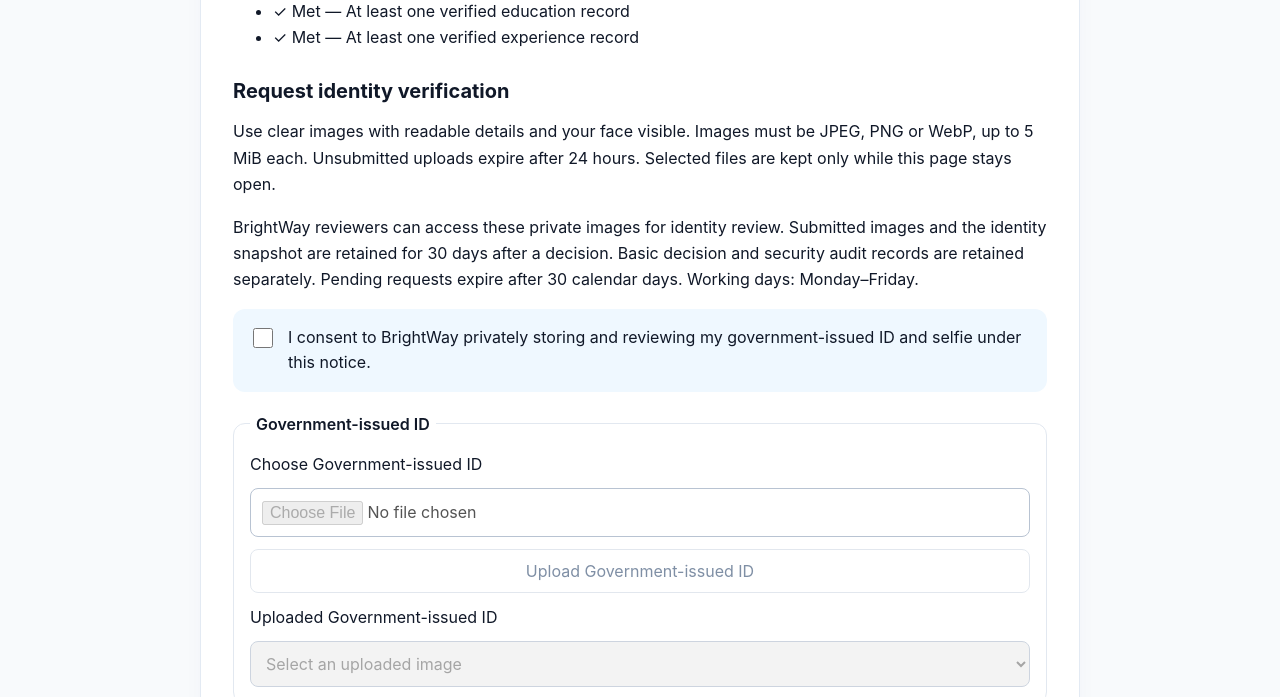
Test case: requires an explicit status reload after a stale submission instead of silently retrying
(page scrolled)
Click the checkbox at point(263, 338), box [253,328,273,348]
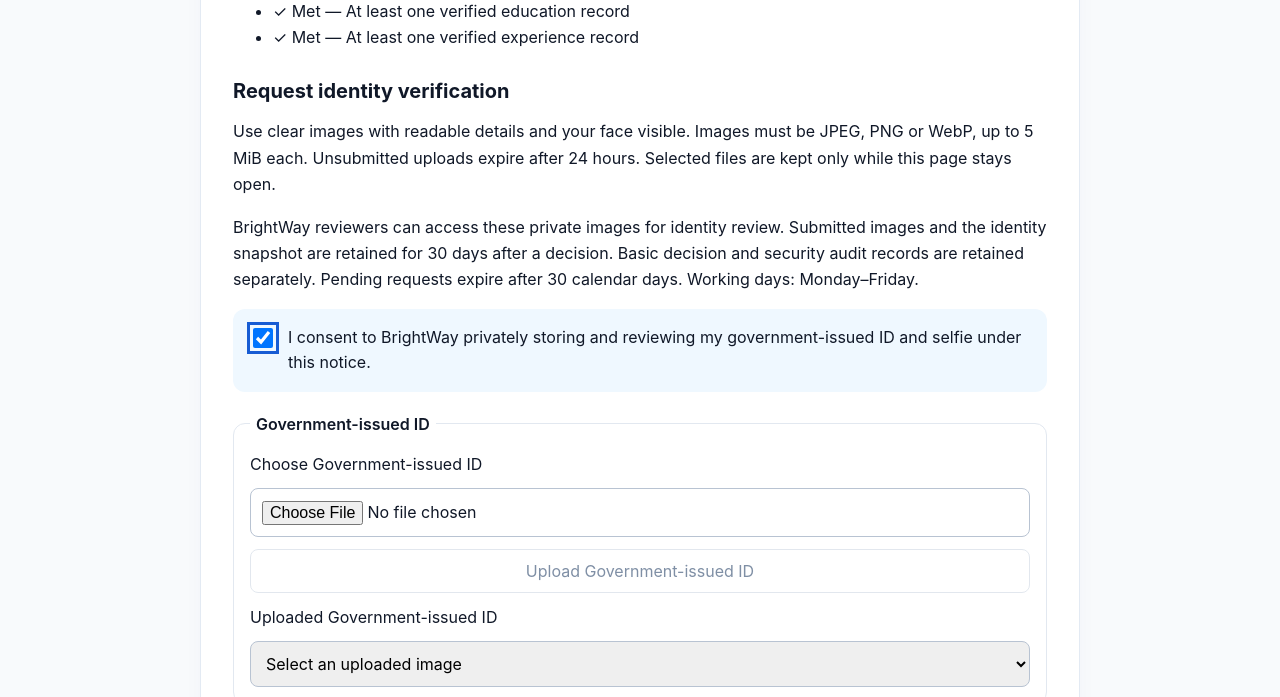
Select "Upload 1 · expires 27 Oct 2026, 00:00 UTC" in the dropdown labelled "Uploaded Government-issued ID" at point(640, 664), box [250,641,1030,687]
(page scrolled)
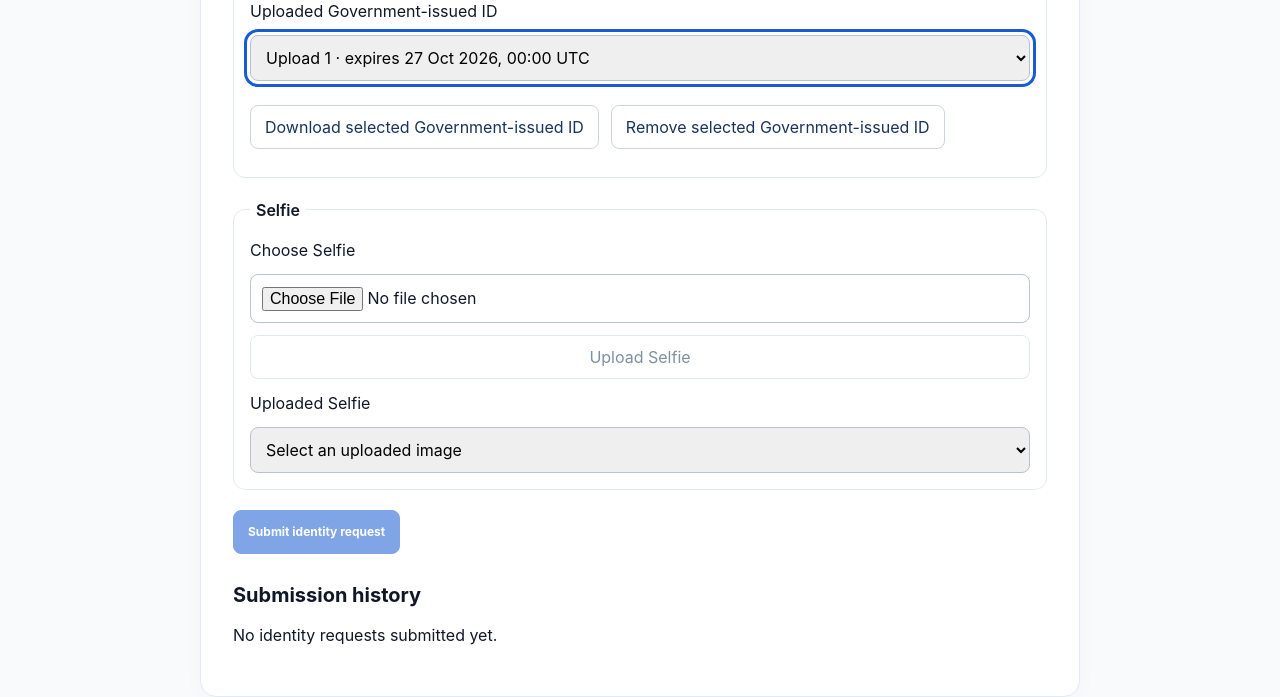
Select "Upload 1 · expires 27 Oct 2026, 00:00 UTC" in the dropdown labelled "Uploaded Selfie" at point(640, 450), box [250,427,1030,473]
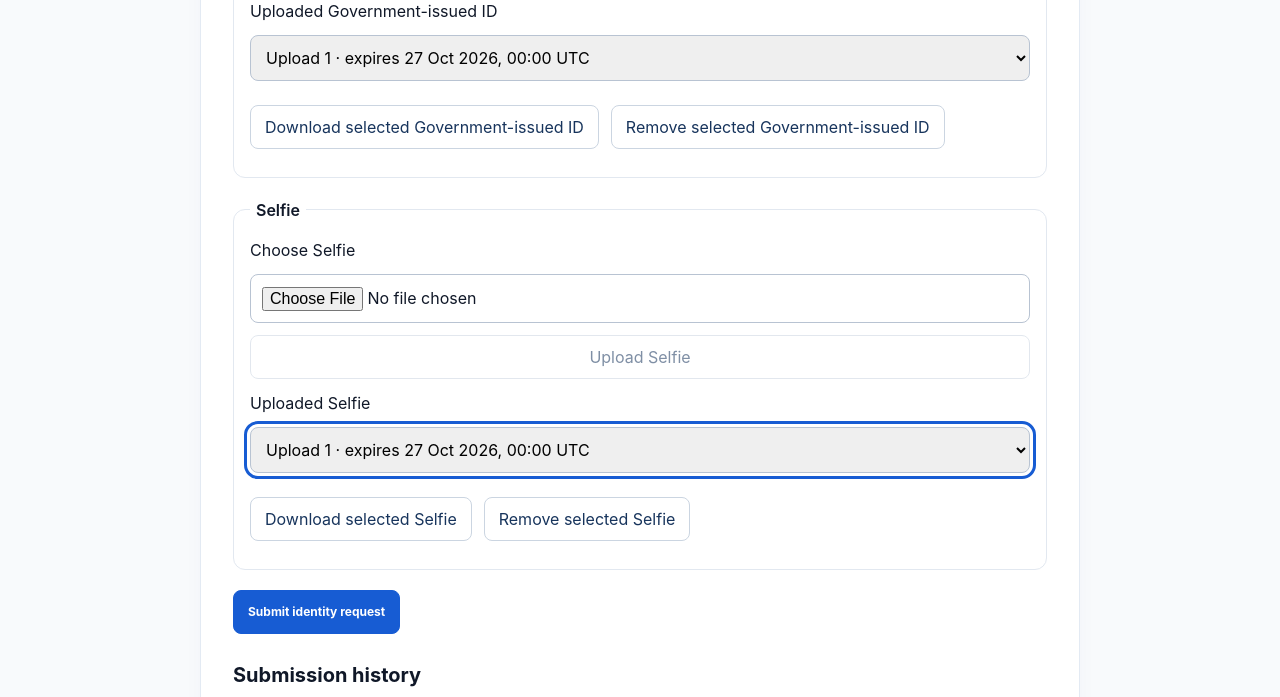
Click the button "Submit identity request" at point(317, 612), box [233,590,400,634]
(page scrolled)
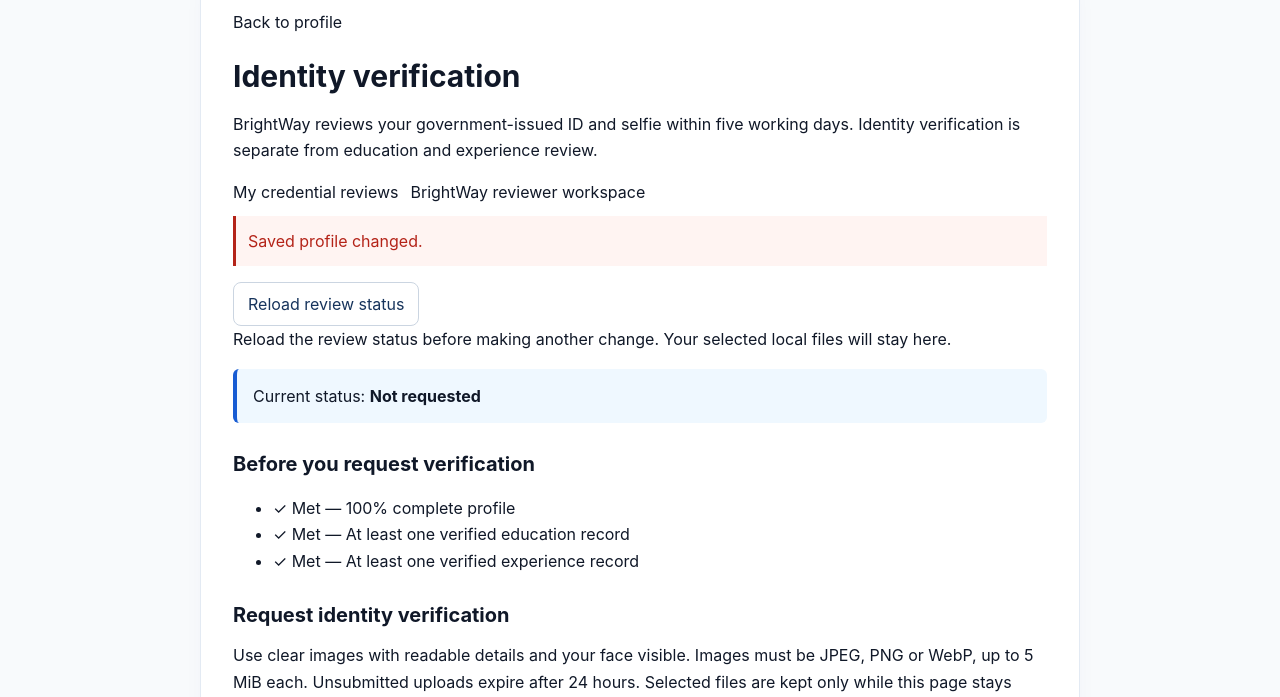
Now the message "Saved profile changed." is shown, box [233,216,1047,266]
Click the button "Reload review status" at point(326, 304), box [233,282,420,326]
(page scrolled)
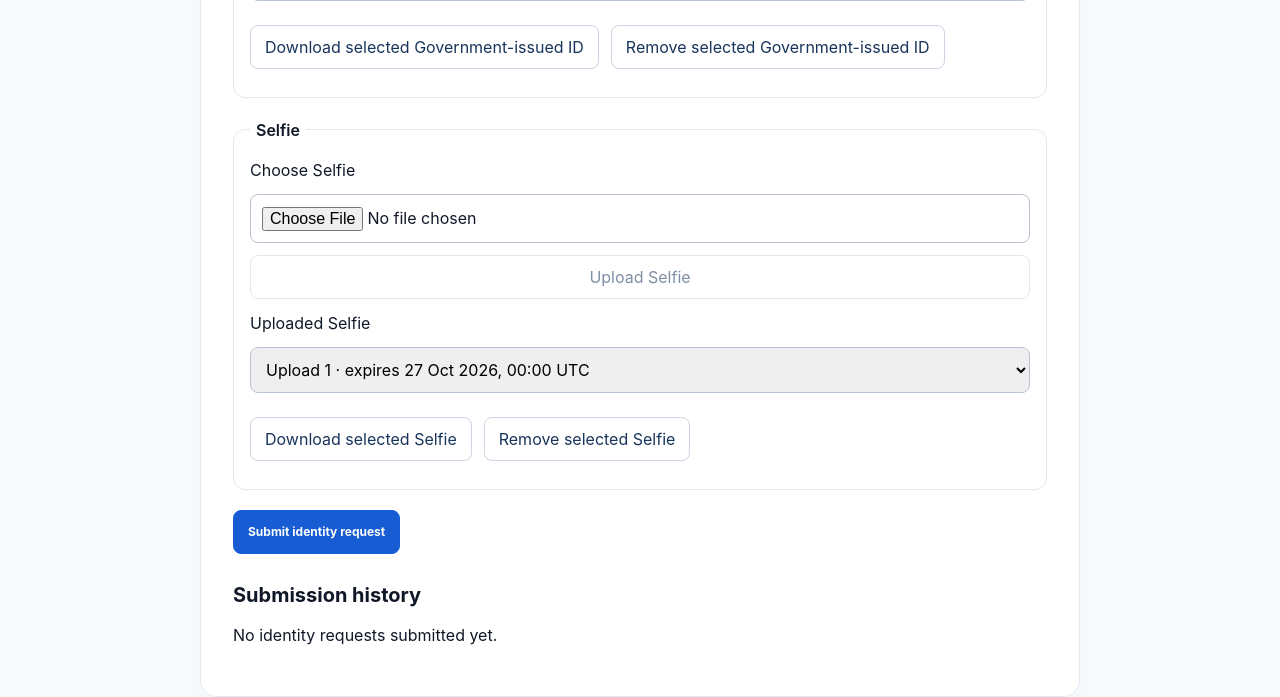
Now the button "Submit identity request" is enabled, box [233,510,400,554]
